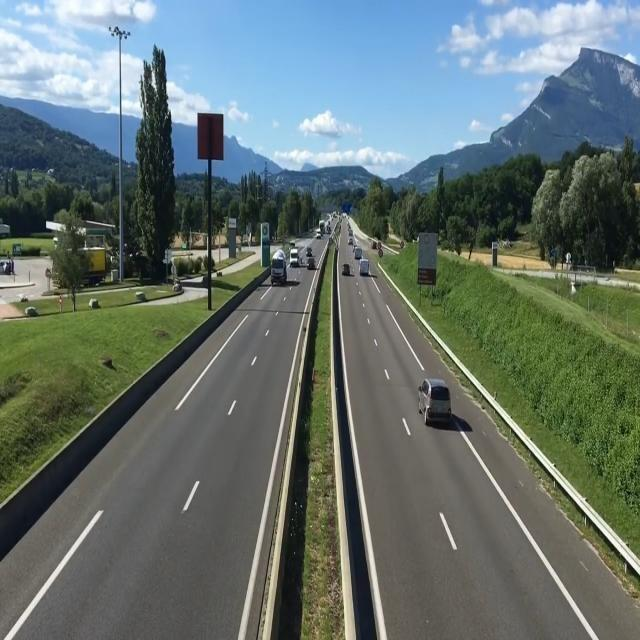Car: (342, 262, 350, 276), (307, 256, 315, 268), (305, 246, 311, 255)
Truck: (270, 249, 288, 287)
Van: (419, 379, 453, 426), (290, 248, 300, 267), (360, 259, 370, 275), (355, 246, 362, 260), (316, 228, 322, 239)
